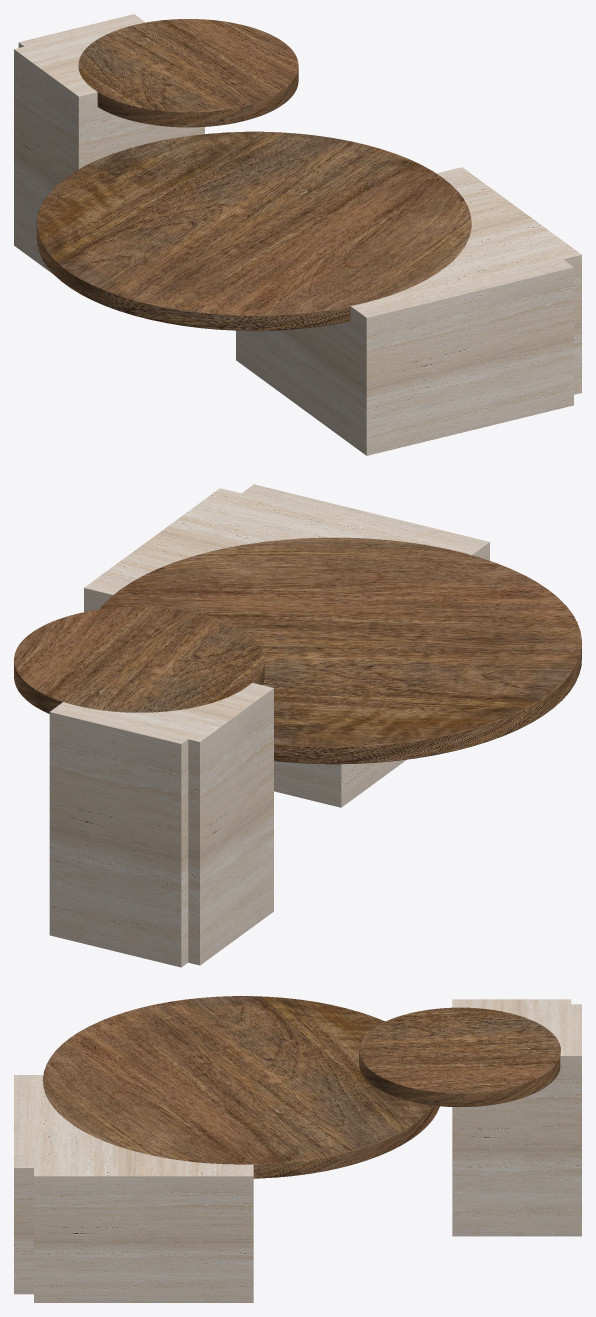
Rendered from Table.glb.
3 renders of one model, top to bottom at view 1: azimuth 30°, elevation 25°; view 2: azimuth 150°, elevation 25°; view 3: azimuth 270°, elevation 25°, orthographic. The views are drawn at different scales.
Visible parts, largest first — view 1: Cylinder001, Box001, Cylinder002, Box002; view 2: Cylinder001, Box002, Cylinder002, Box001; view 3: Cylinder001, Box001, Box002, Cylinder002.
Boxes of the visible parts, bbox=[...] form: Cylinder001: bbox=[36, 131, 471, 330]; Box001: bbox=[236, 167, 581, 455]; Cylinder002: bbox=[78, 19, 298, 127]; Box002: bbox=[14, 14, 204, 274]; Cylinder001: bbox=[99, 537, 581, 764]; Box002: bbox=[49, 683, 273, 967]; Cylinder002: bbox=[14, 606, 264, 713]; Box001: bbox=[84, 484, 489, 807]; Cylinder001: bbox=[43, 996, 439, 1178]; Box001: bbox=[14, 1075, 253, 1302]; Box002: bbox=[452, 999, 581, 1236]; Cylinder002: bbox=[359, 1007, 560, 1106].
Size of the model in its own units: 1.07 by 0.4989 by 1.42.
Materials: 2 (2 with a texture image).
